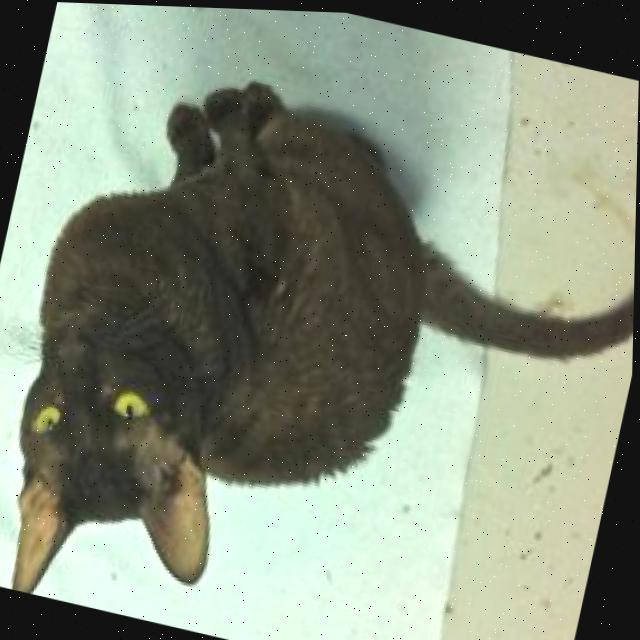Cornish Rex: (0, 37, 639, 640)
